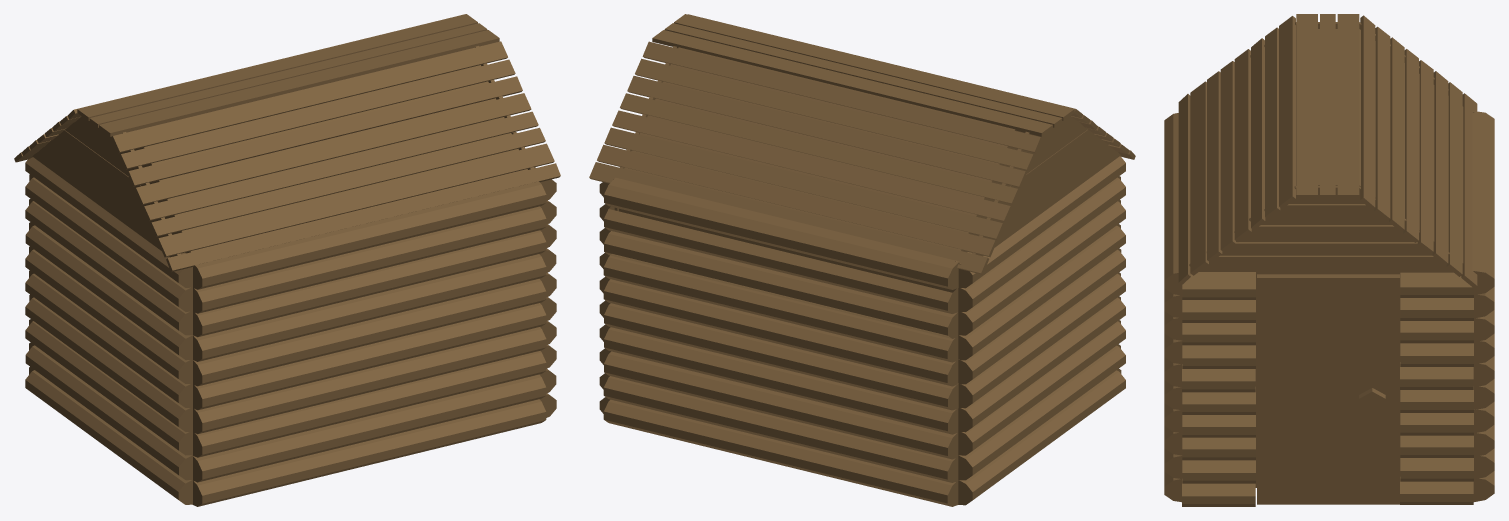
Rendered from cabane.fbx.
The picture shows the model from 3 angles, left to right: view 1: azimuth 30°, elevation 25°; view 2: azimuth 150°, elevation 25°; view 3: azimuth 270°, elevation 25°; orthographic projection. The views are drawn at different scales.
Parts seen in each view (by area): view 1: cabane; view 2: cabane; view 3: cabane.
Part boxes in pixels (x1,y1,x2,y2): cabane: [14, 14, 560, 506]; cabane: [589, 14, 1135, 506]; cabane: [1164, 14, 1494, 506].
Size of the model in its own units: 11.86 by 9.66 by 9.08.
